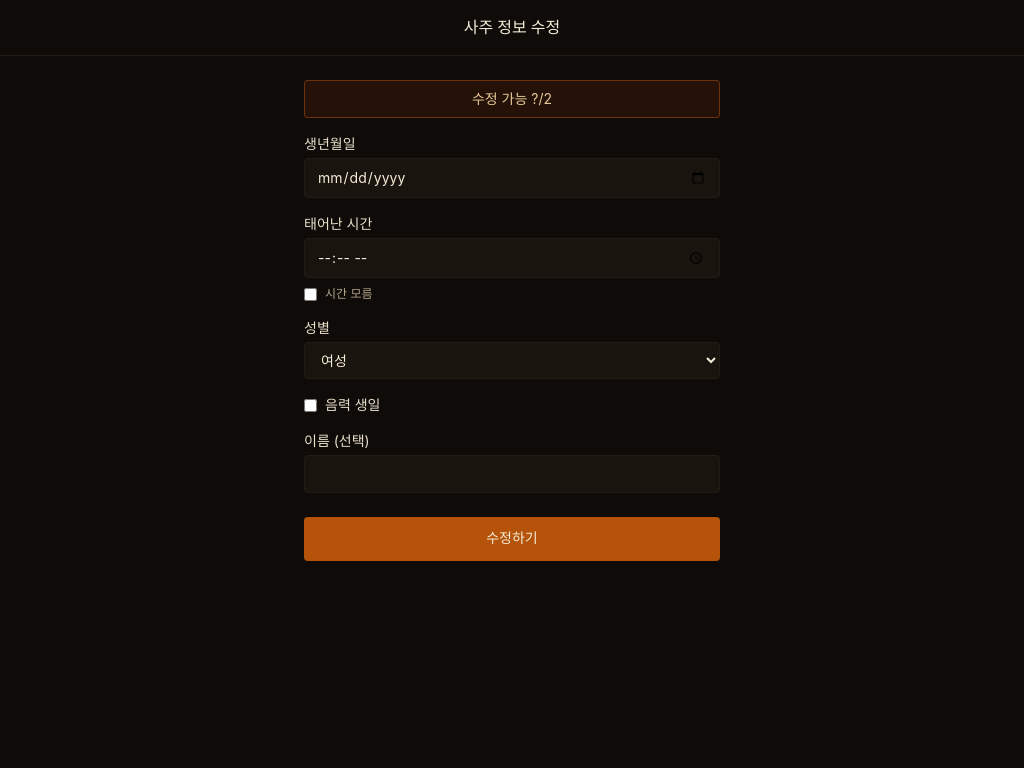
Scenario: MeEditSajuPage › AC2: backend 403 quota_exceeded → swap to 운영 문의 fallback
Expected: the element with test id "me-edit-saju-loaded" is shown, [288, 56, 736, 767]
Type "1998-09-14" into the date field with test id "me-edit-saju-input-date".
click(512, 178); type("1998-09-14")  # box [304, 158, 720, 198]
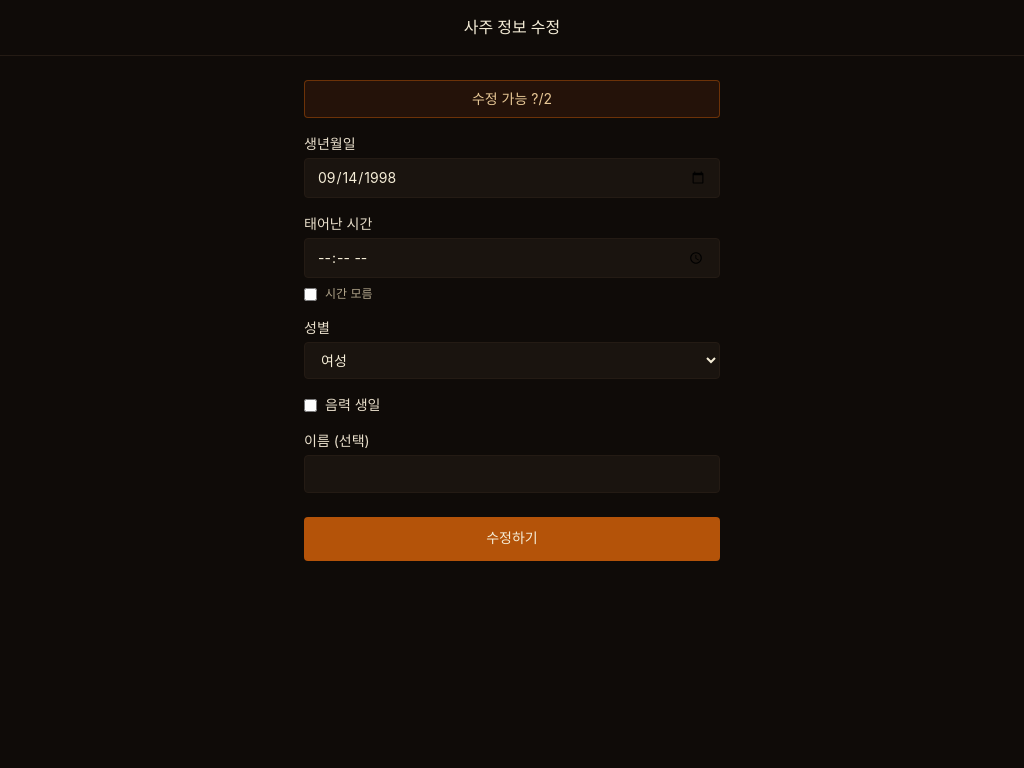
Click the button with test id "me-edit-saju-submit".
click(512, 539)  # box [304, 517, 720, 561]
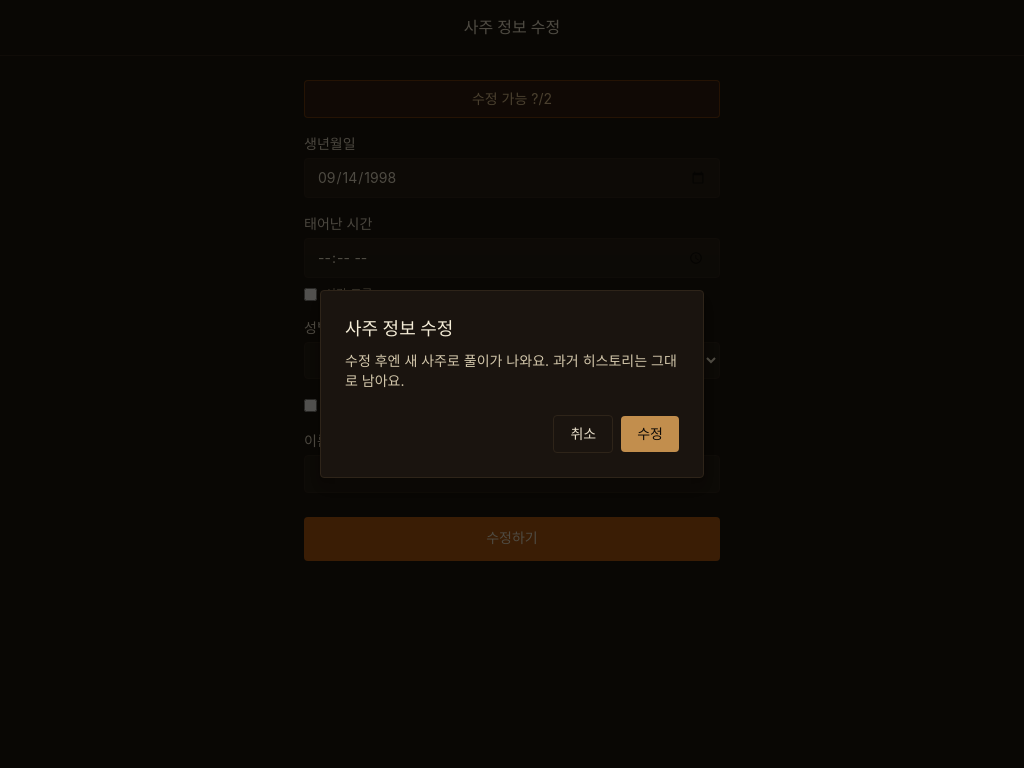
Expected: the text "수정 후엔 새 사주로 풀이가 나와요. 과거 히스토리는 그대로 남아요." is shown, [345, 351, 679, 391]
Click the button "수정".
click(650, 434)  # box [621, 416, 679, 452]
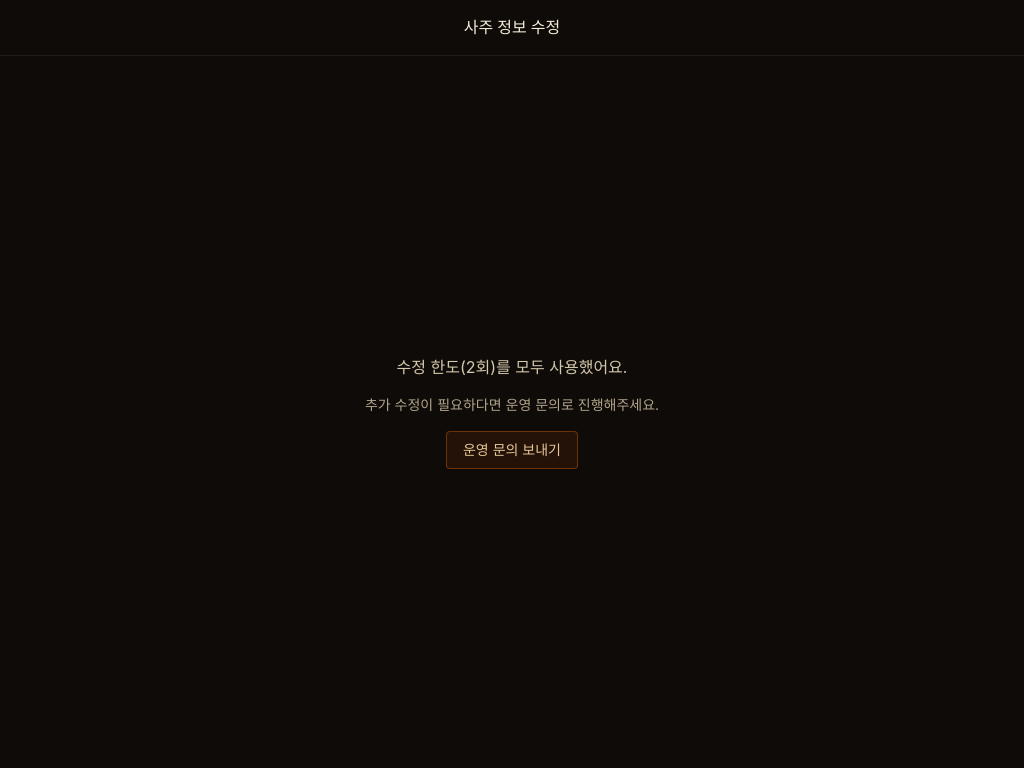
Expected: the element with test id "me-edit-saju-quota-exhausted" is shown, [365, 357, 659, 469]
Expected: the form with test id "me-edit-saju-form" is gone
